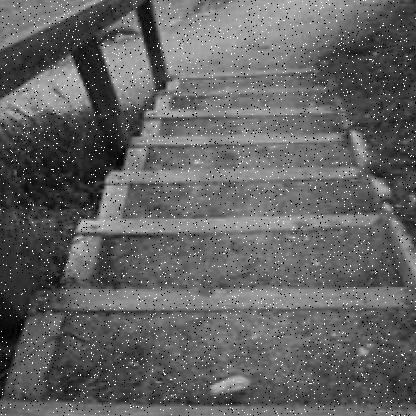stair_down: (20, 226, 355, 416)
